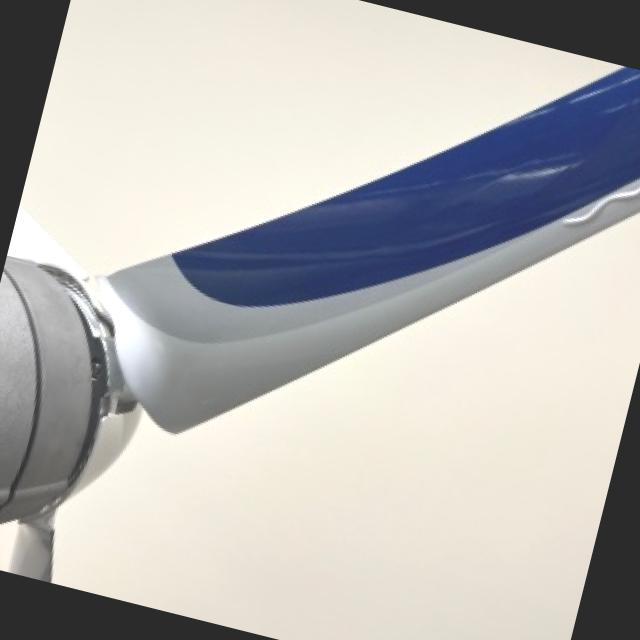healthy: (57, 213, 640, 640)
